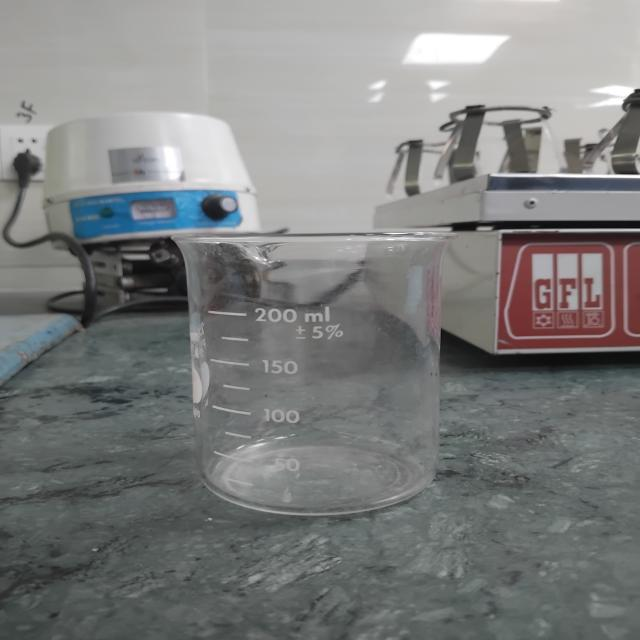Beaker: (156, 185, 494, 545)
